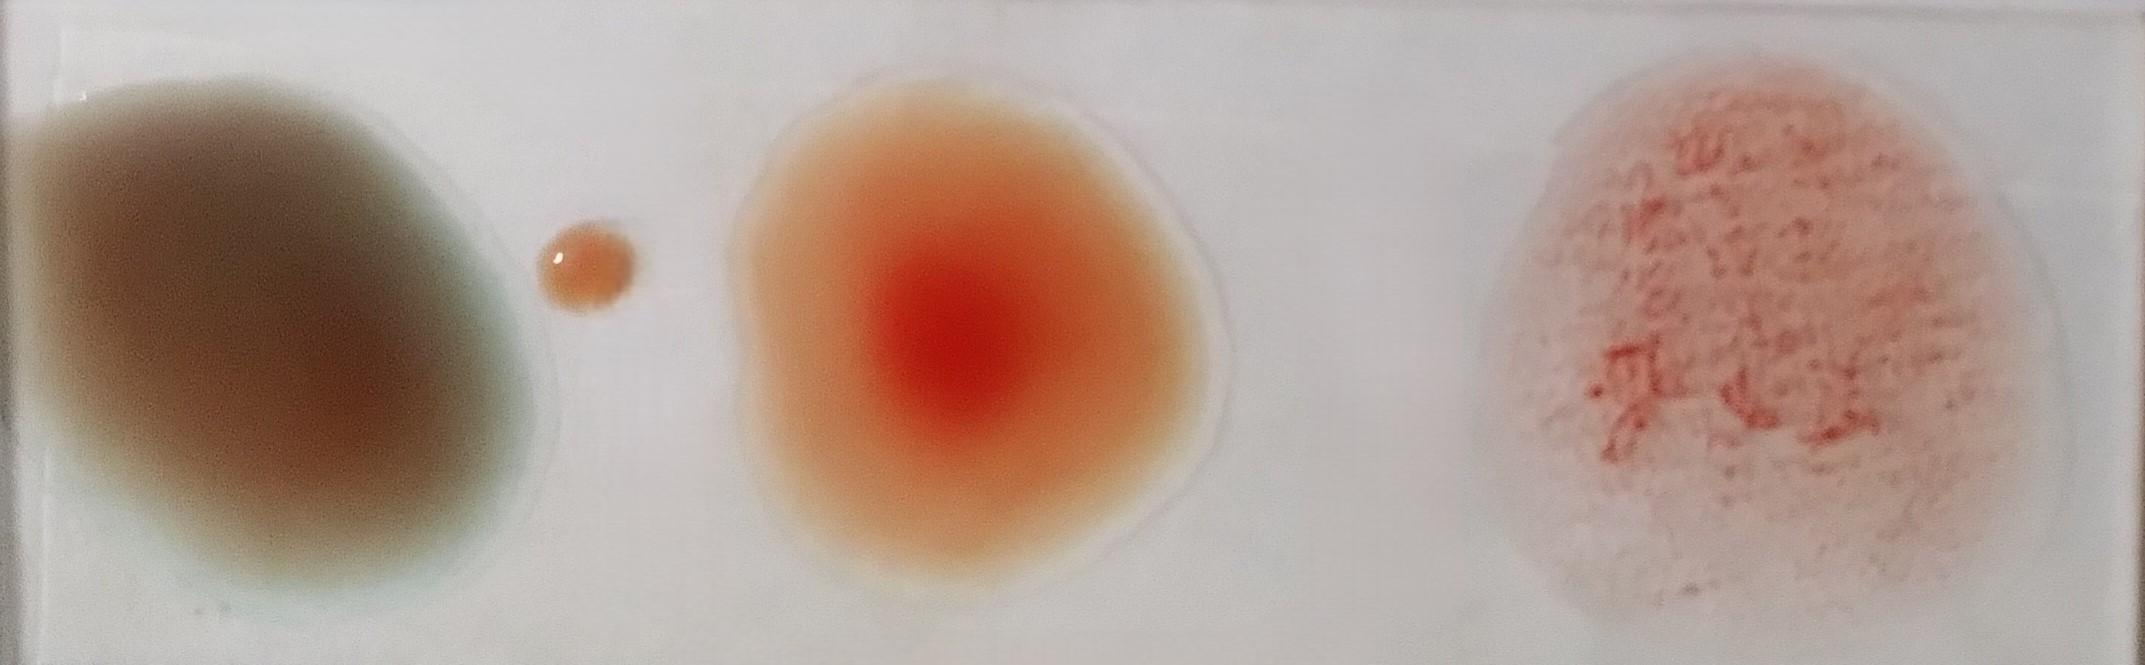D: (1510, 85, 2037, 651)
